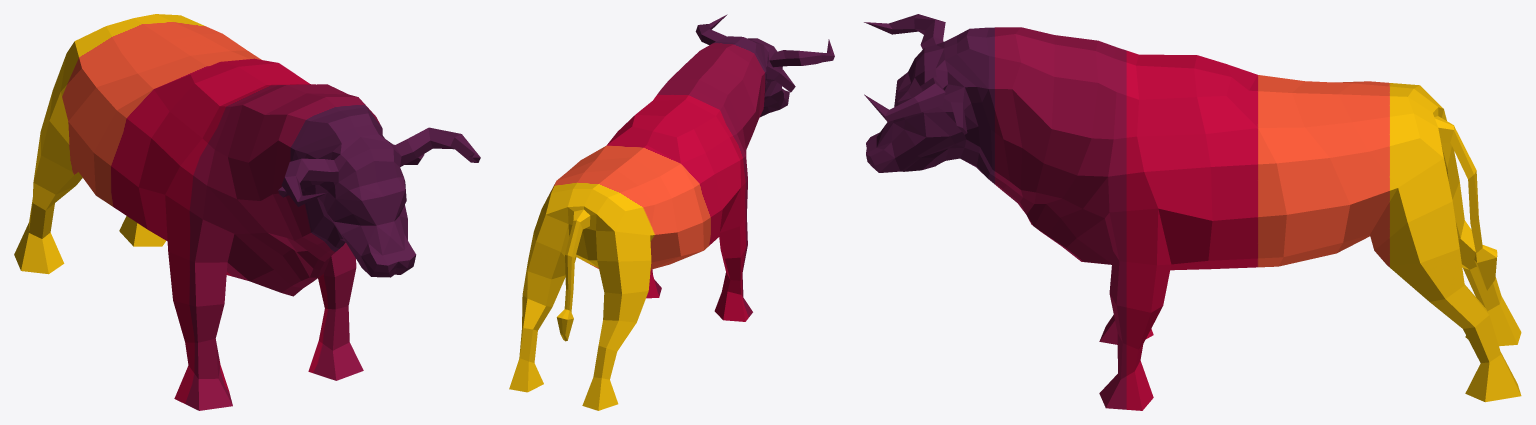
File: lowpoly.glb
3 views of the same model, side by side, from view 1: azimuth 30°, elevation 25°; view 2: azimuth 150°, elevation 25°; view 3: azimuth 270°, elevation 25° (orthographic). The views are drawn at different scales.
Parts seen in each view (by area): view 1: polySurface11; view 2: polySurface11; view 3: polySurface11.
Boxes of the visible parts, bbox=[...] form: polySurface11: bbox=[14, 14, 480, 410]; polySurface11: bbox=[509, 14, 834, 410]; polySurface11: bbox=[864, 14, 1521, 410].
Size of the model in its own units: 3.33 by 5.23 by 9.35.
1 material, 1 textured.
